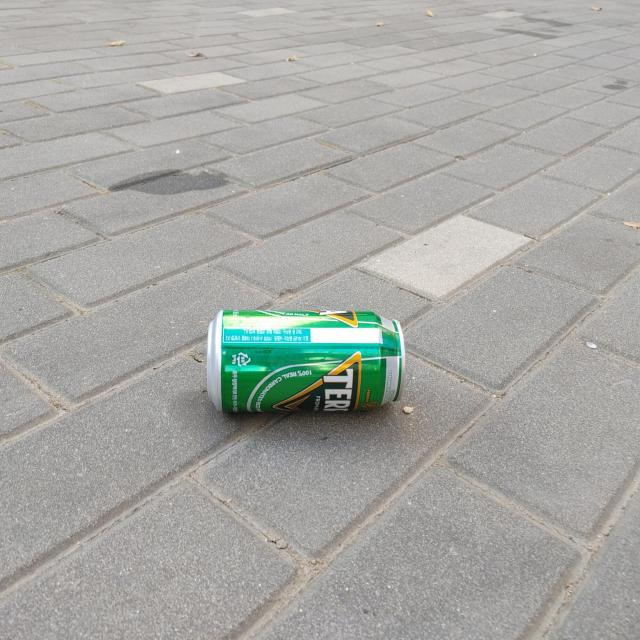can: (206, 311, 406, 413)
